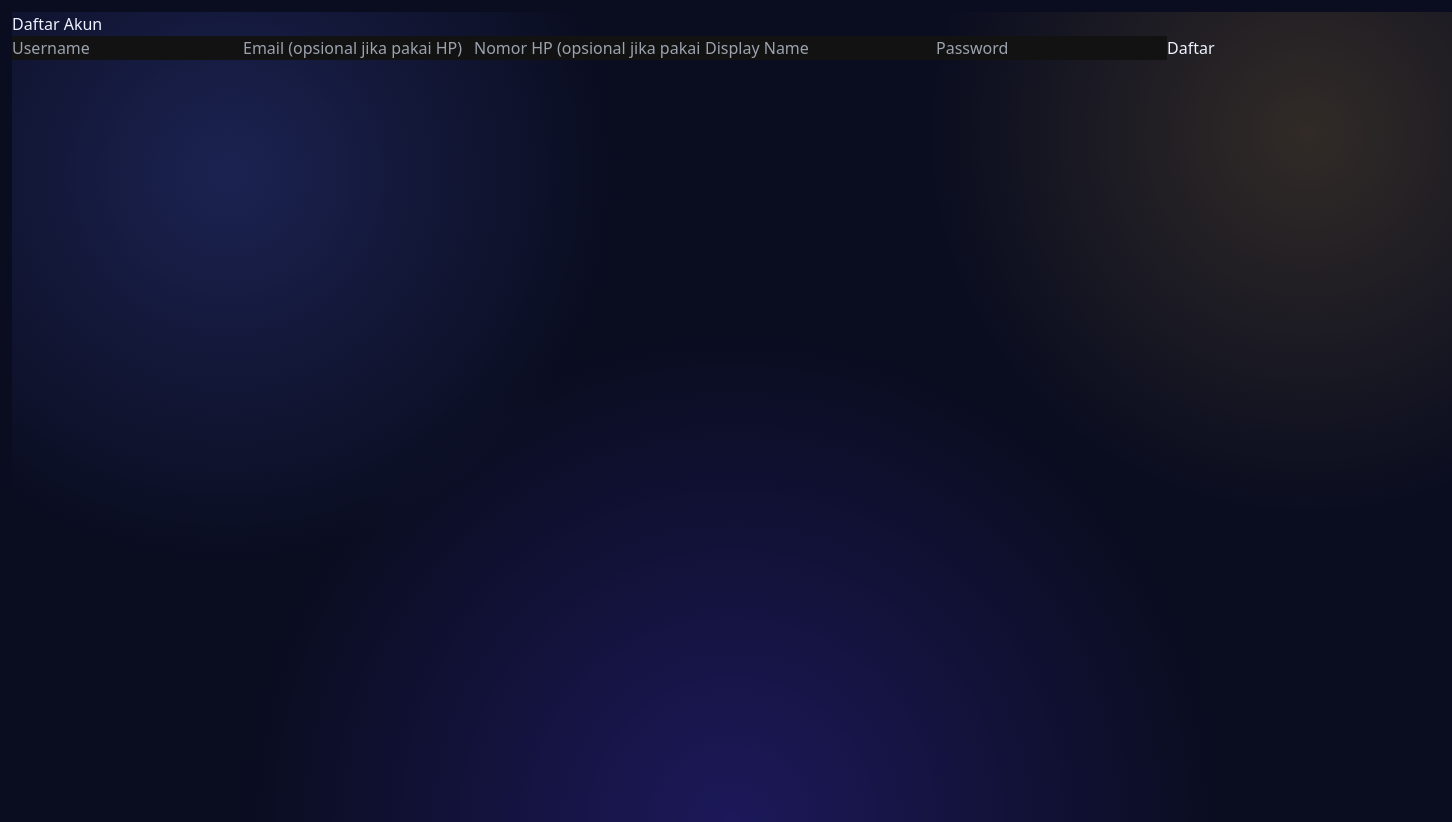
Test: RegisterForm › menampilkan error jika format email tidak valid
Type "mizukitest" into the field with placeholder "Username" at (128, 48), box [12,36,243,60]
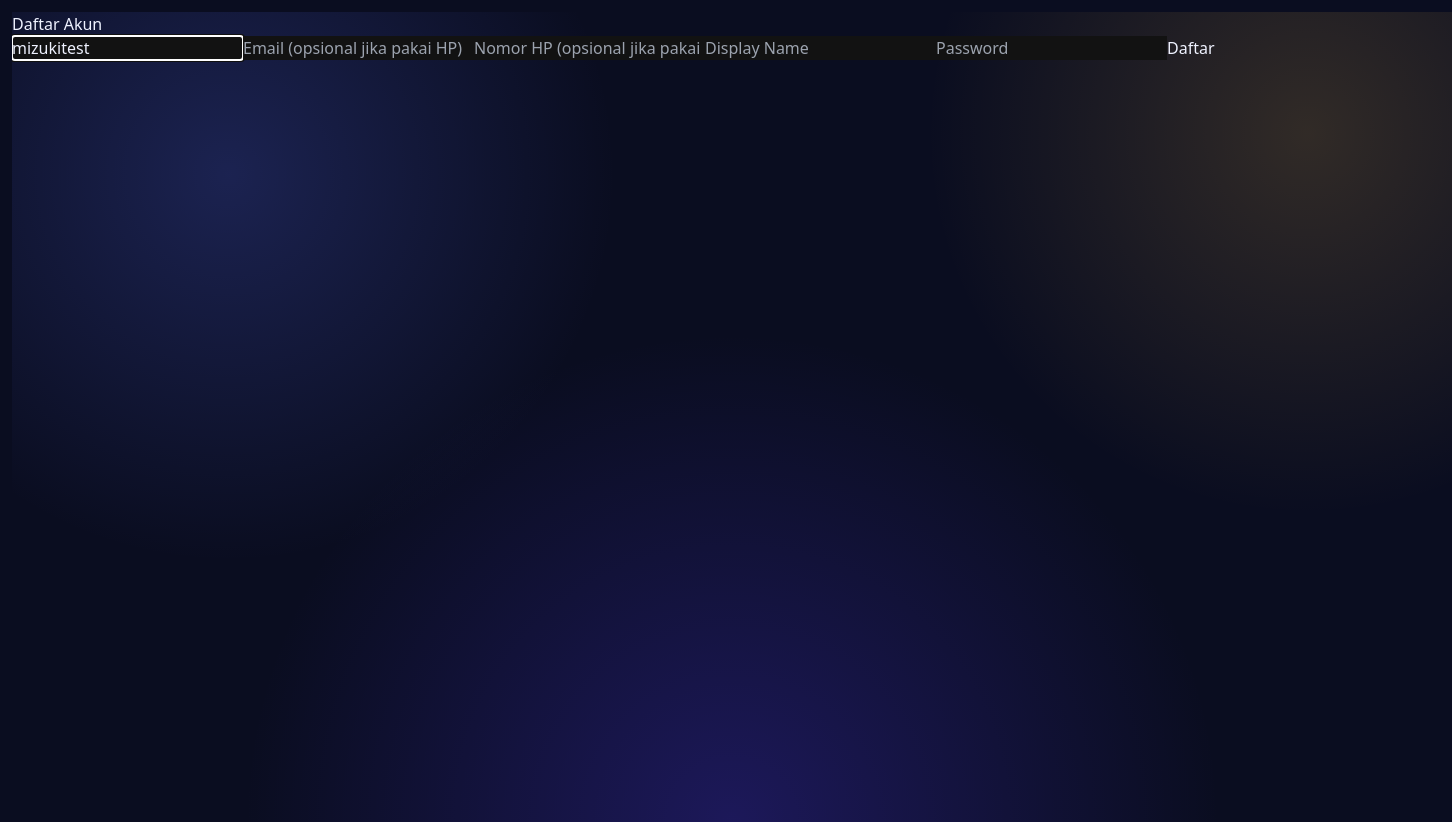
Type "invalid-email" into the field with placeholder "Email (opsional jika pakai HP)" at (358, 48), box [243,36,474,60]
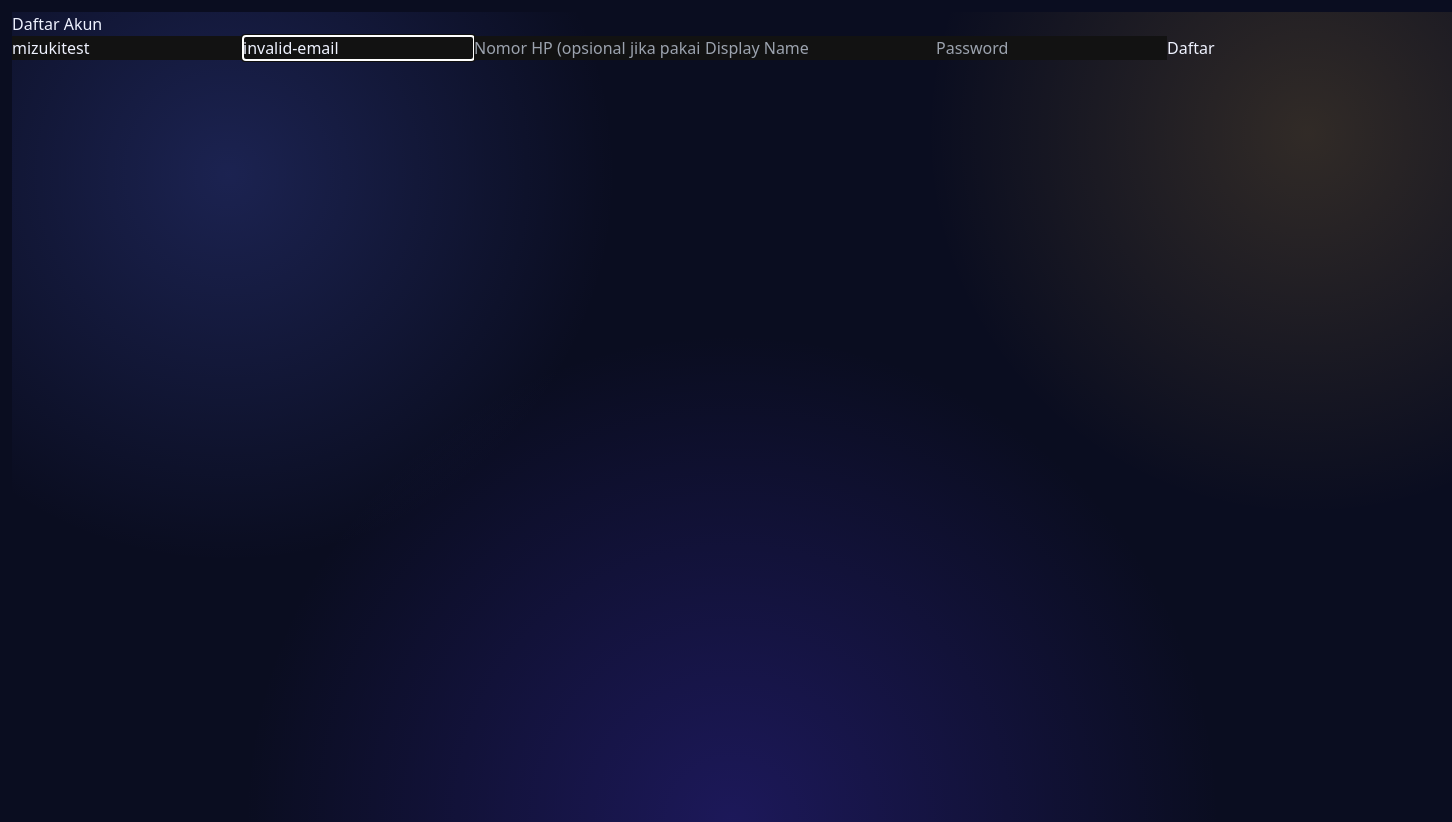
Click the button "Daftar" at (1191, 48), box [1167,36,1214,60]
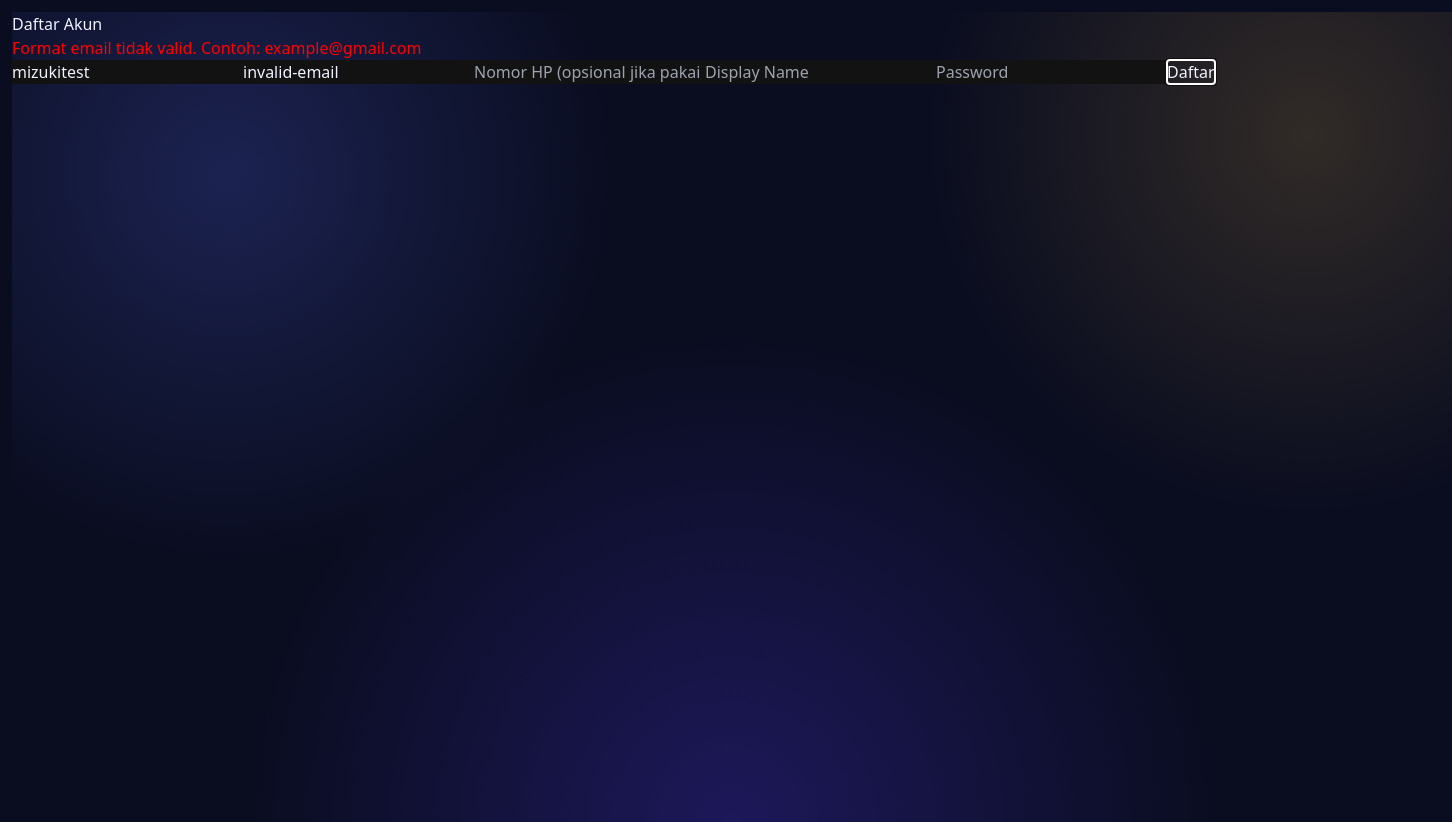
Check: the text "Format email tidak valid. Contoh: example@gmail.com" is shown, box [12,37,422,59]
